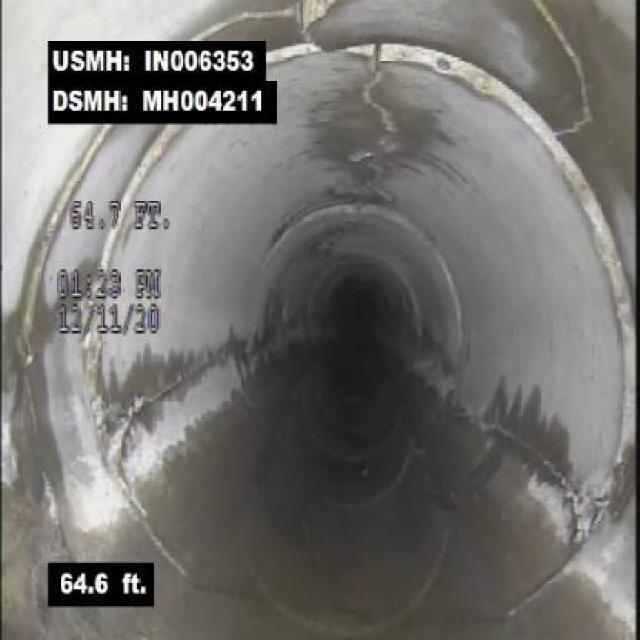Buckling: (273, 0, 361, 52)
Crack: (21, 152, 94, 316), (110, 360, 212, 465), (510, 429, 592, 540), (535, 5, 597, 143), (351, 37, 415, 145)
Joint offset: (551, 144, 635, 318), (418, 40, 537, 134)
